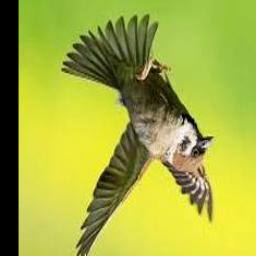Sparrow: (61, 14, 214, 256)
